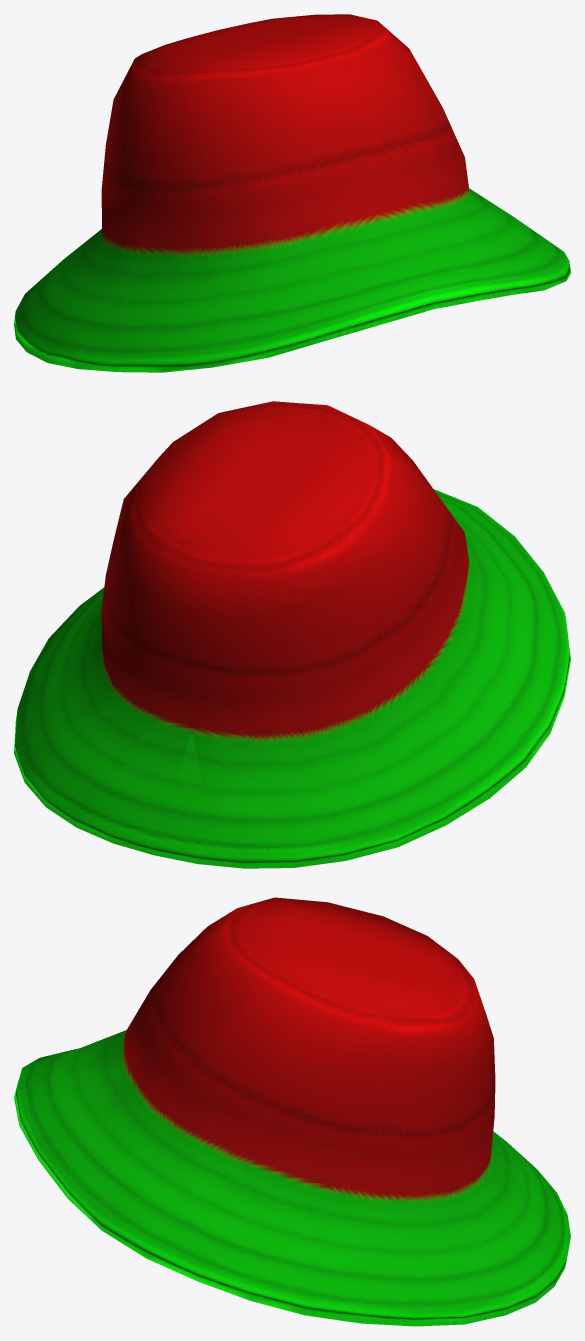
The model's file is BSMC_Outfit_Hat_Bucket.obj.
3 views of the same model, one above another, from view 1: azimuth 30°, elevation 25°; view 2: azimuth 150°, elevation 25°; view 3: azimuth 270°, elevation 25° (orthographic).
Visible parts, largest first — view 1: BSMC_Outfit_Hat_Bucket_0; view 2: BSMC_Outfit_Hat_Bucket_0; view 3: BSMC_Outfit_Hat_Bucket_0.
Part boxes in pixels (left/top/right/bottom): BSMC_Outfit_Hat_Bucket_0: left=14, top=14, right=570, bottom=372; BSMC_Outfit_Hat_Bucket_0: left=14, top=401, right=570, bottom=868; BSMC_Outfit_Hat_Bucket_0: left=14, top=897, right=570, bottom=1326.
Bounding box in the file's own units: 0.3511 × 0.2263 × 0.3575.
1 material, 1 textured.
